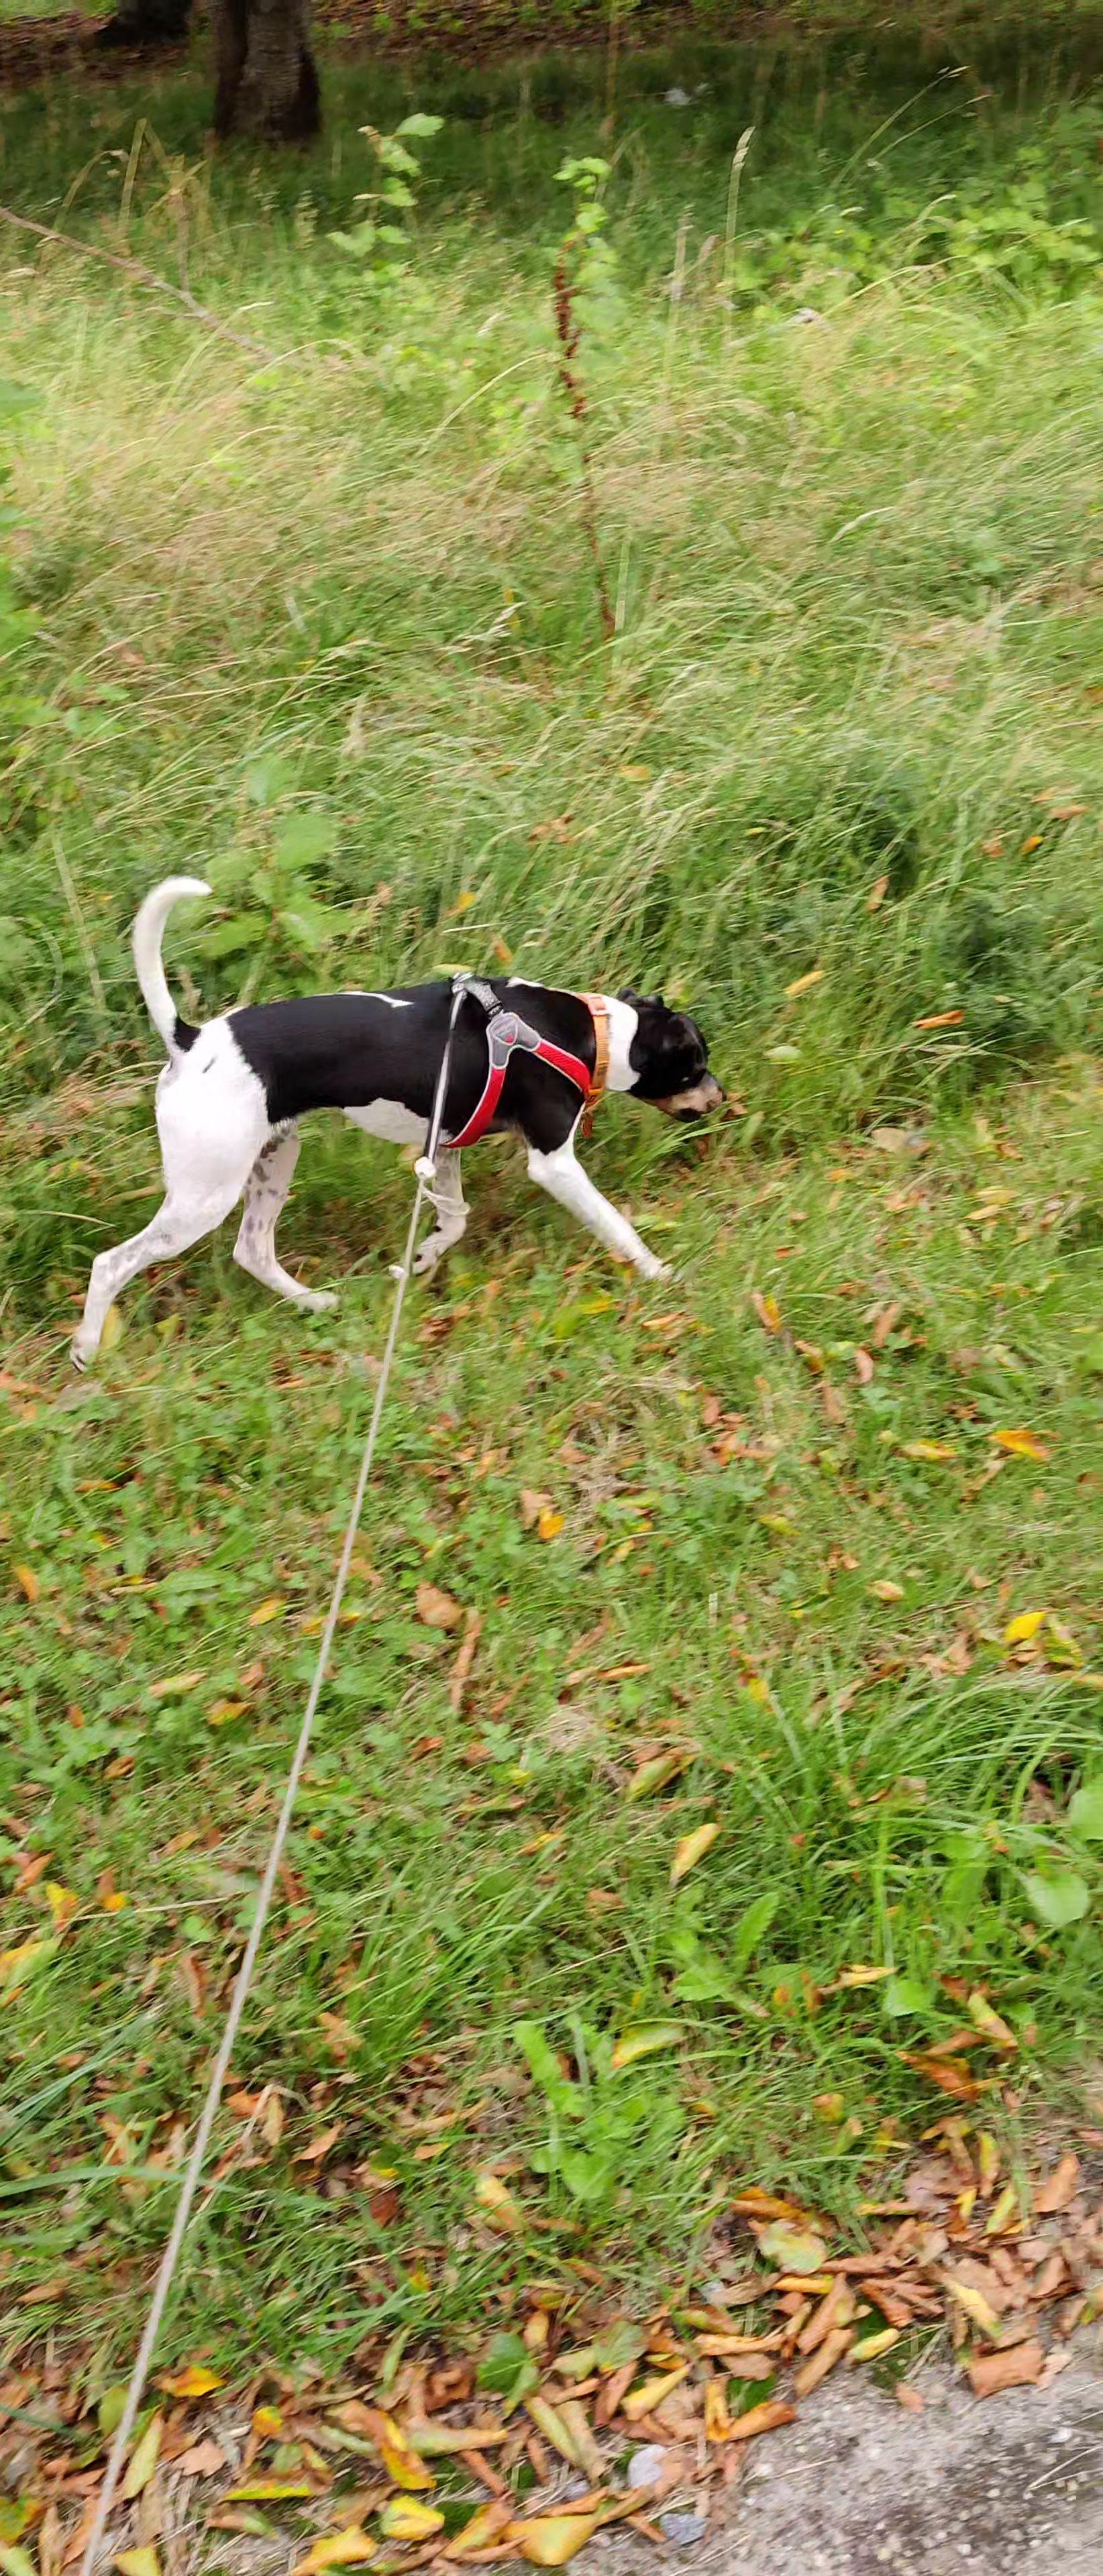Dog: (59, 867, 736, 1380)
